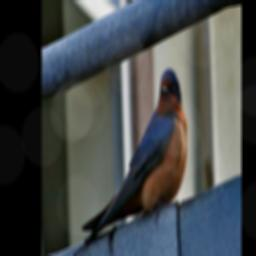Swallow: (62, 62, 193, 256)
